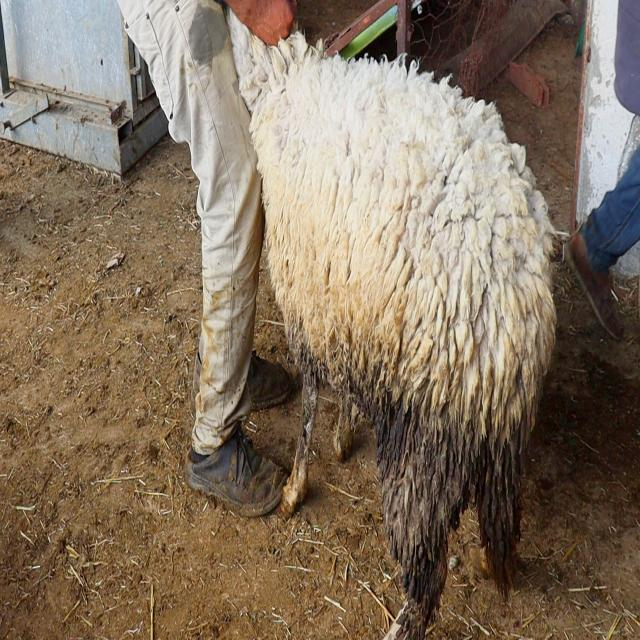Score_4: (227, 10, 559, 639)
